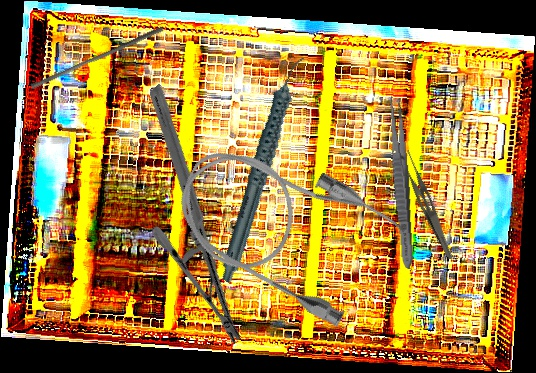Cannula: (159, 117, 411, 335)
Dressing Forceps: (393, 148, 465, 261), (384, 94, 418, 270)
Handpiece: (177, 54, 350, 284)
Needle Holder: (61, 83, 330, 347)
Pusher: (29, 20, 165, 95)
